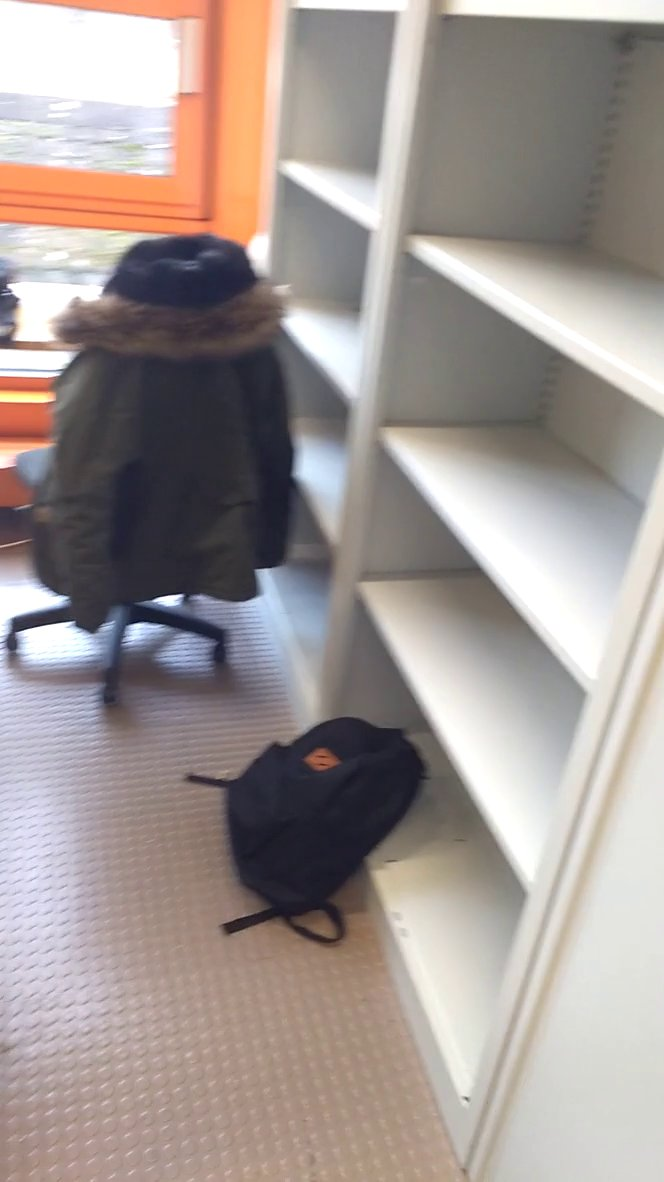bag: (191, 702, 436, 953)
